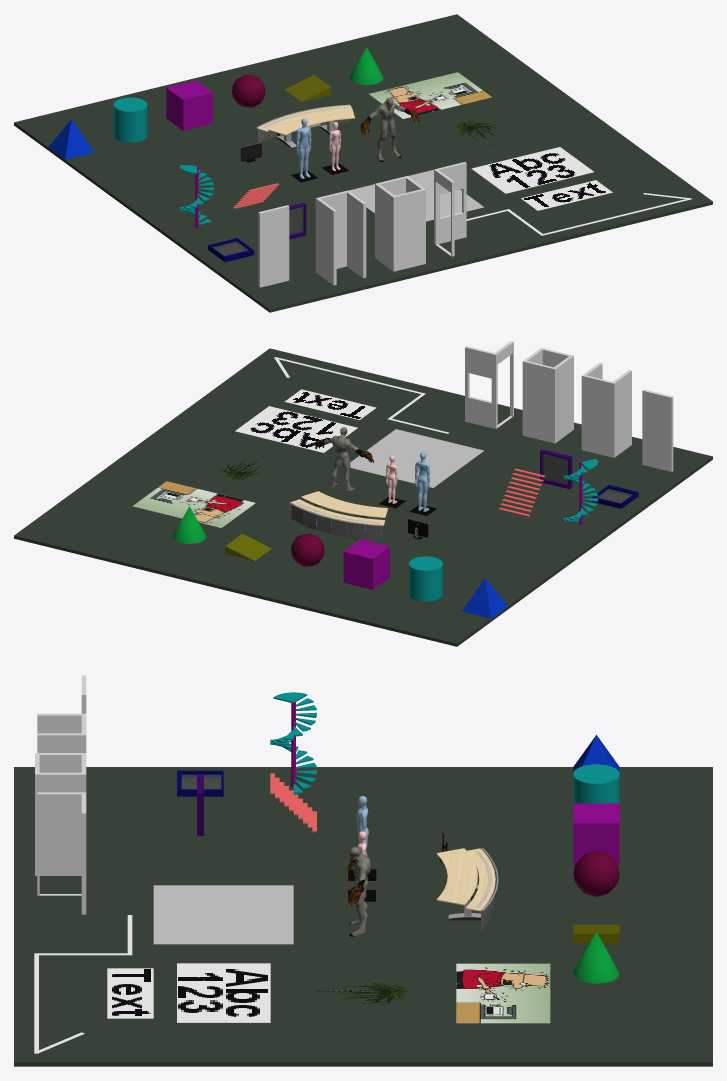
Rendered from ExporterTest.dae.
The picture shows the model from 3 angles, top to bottom: view 1: azimuth 30°, elevation 25°; view 2: azimuth 150°, elevation 25°; view 3: azimuth 270°, elevation 25°; orthographic projection. The views are drawn at different scales.
Parts seen in each view (by area): view 1: Ground, POTextArea, POImageSurface, Wall_8, Wall, POBox, Wall_2, POMosaicSurface, Wall_4, POCylinder, Wall_5, Wall_10 (+14 smaller); view 2: Ground, POMosaicSurface, POImageSurface, POTextArea, Wall_3, Wall_6, Wall, POBox, Wall_10, Wall_5, POCylinder, Wall_2 (+14 smaller); view 3: Ground, POMosaicSurface, POImageSurface, POTextArea, Wall_7, POBox, POLabel, POCylinder, cergo_56__6_ts, POSphere, POCone, Doom3_Arch_Vile (+11 smaller).
Part boxes in pixels (box(x1,y1,x2,y2)): Ground: box(14, 14, 712, 312); POTextArea: box(471, 147, 593, 193); POImageSurface: box(369, 72, 491, 118); Wall_8: box(393, 189, 425, 271); Wall: box(258, 205, 289, 287); POBox: box(166, 80, 212, 130); Wall_2: box(315, 198, 336, 285); POMosaicSurface: box(349, 170, 483, 221); Wall_4: box(347, 190, 366, 278); POCylinder: box(113, 97, 147, 142); Wall_5: box(375, 184, 394, 271); Wall_10: box(434, 162, 466, 243); Ground: box(14, 348, 712, 646); POMosaicSurface: box(350, 429, 483, 487); POImageSurface: box(133, 481, 255, 527); POTextArea: box(235, 406, 357, 452); Wall_3: box(581, 375, 614, 457); Wall_6: box(522, 361, 554, 443); Wall: box(642, 389, 673, 471); POBox: box(343, 539, 389, 589); Wall_10: box(465, 346, 495, 428); Wall_5: box(554, 355, 573, 443); POCylinder: box(409, 556, 442, 601); Wall_2: box(613, 370, 631, 457); Ground: box(14, 767, 712, 1066); POMosaicSurface: box(153, 885, 293, 944); POImageSurface: box(456, 963, 550, 1023); POTextArea: box(177, 963, 270, 1022); Wall_7: box(35, 772, 86, 875); POBox: box(573, 803, 619, 865); POLabel: box(107, 968, 153, 1018); POCylinder: box(573, 764, 619, 803); cergo_56__6_ts: box(436, 848, 477, 905); POSphere: box(573, 850, 619, 896); POCone: box(573, 932, 619, 983); Doom3_Arch_Vile: box(348, 847, 371, 936).
Size of the model in its own units: 15 by 2.51 by 15.
38 materials, 10 textured.
